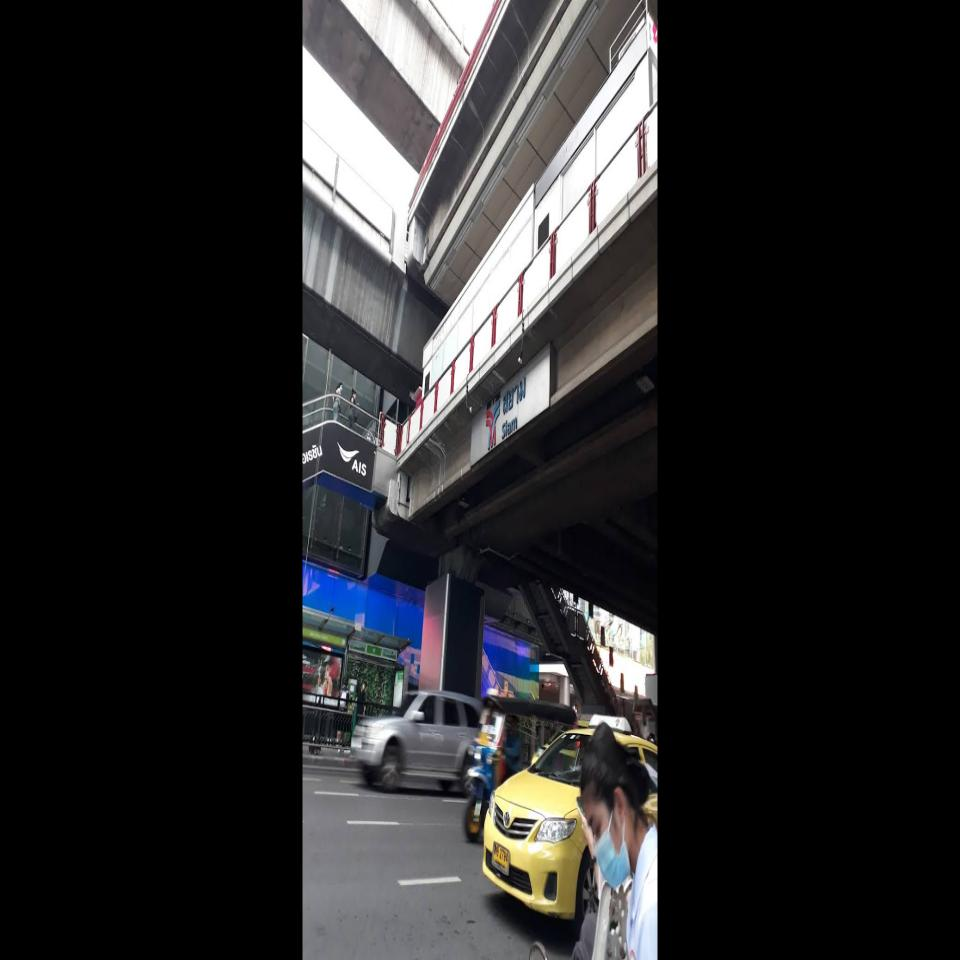signage: (485, 376, 527, 451), (501, 376, 526, 439)
